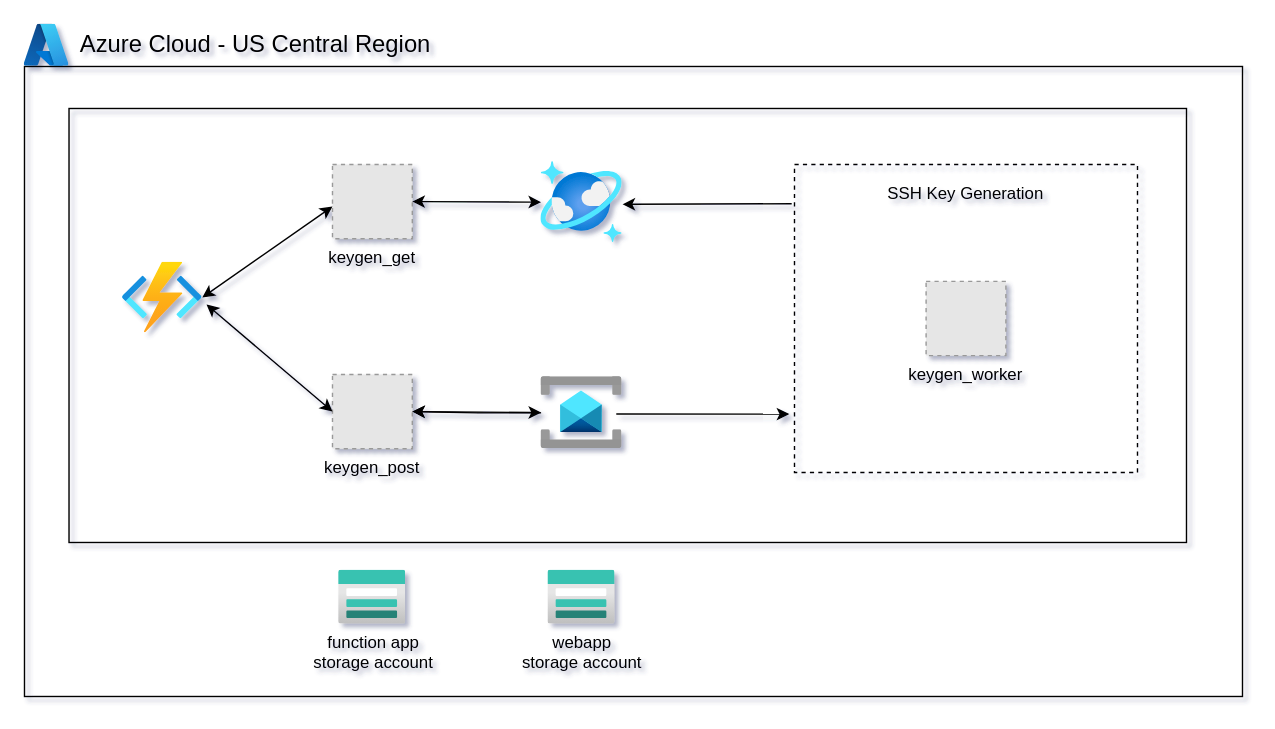
Some shapes in this 1275 by 729 pixel diagram are drawn without their labels. Grey dashed boxes stand in for pictures. The centre of each missing label's shape, as x and y in pixels:
"cosmos-keygen" goes at (x=581, y=201).
"func-keygen" goes at (x=162, y=297).
"sb-keygen" goes at (x=581, y=412).
